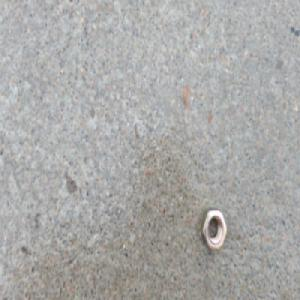Nut: (200, 207, 227, 252)
